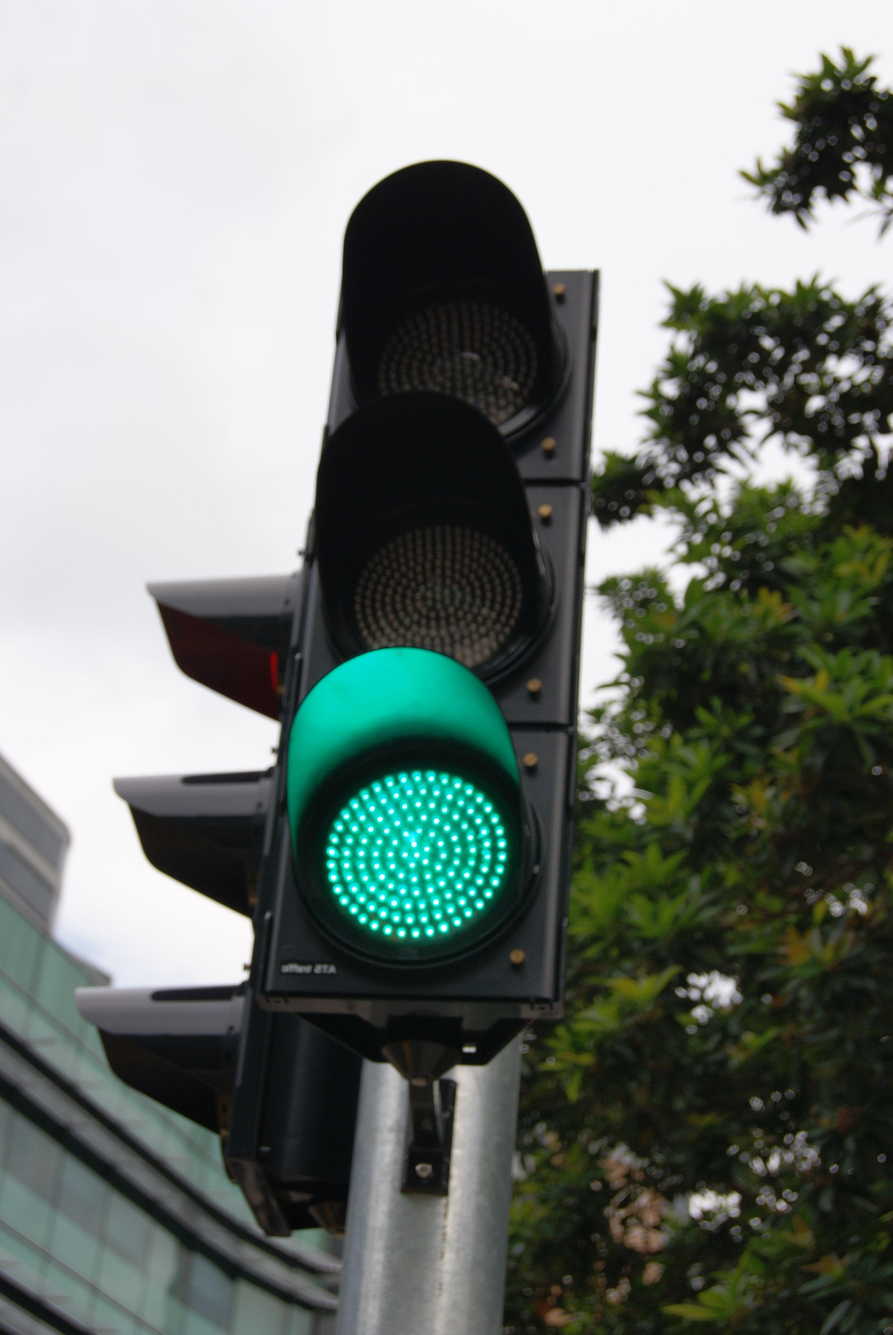Traffic light green: (283, 193, 620, 1055)
